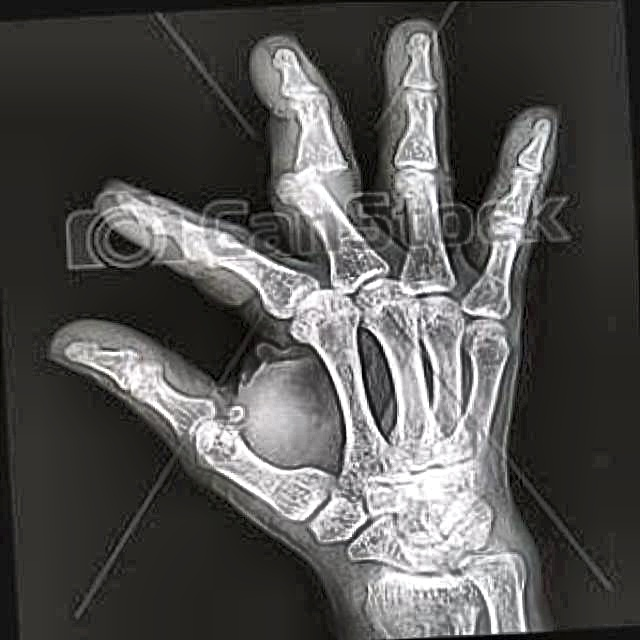Transverse: (272, 136, 359, 223)
